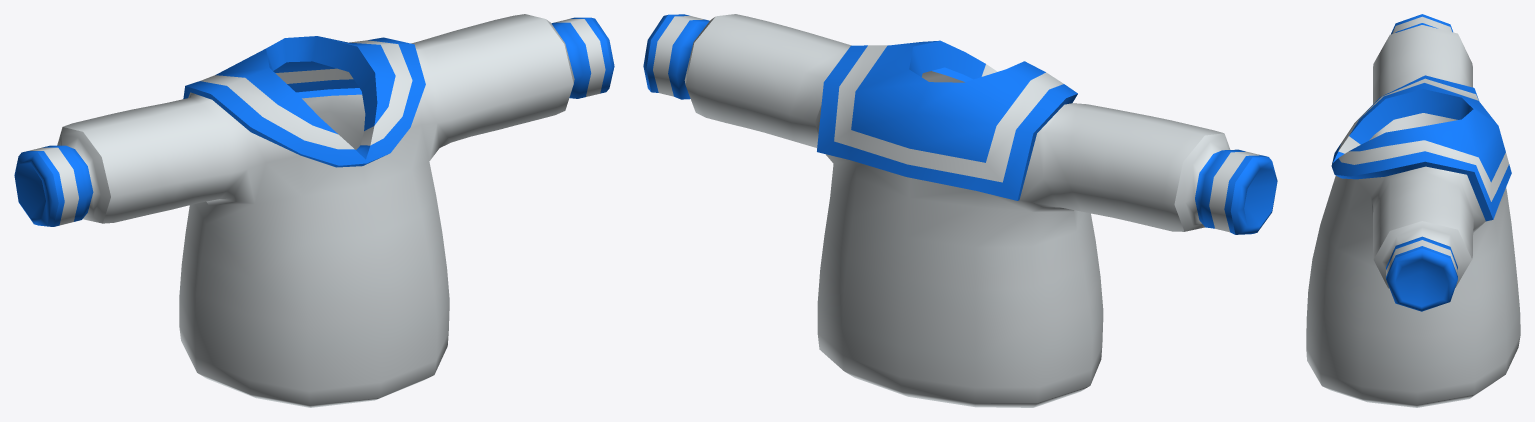
File: Top_43.fbx
The picture shows the model from 3 angles, left to right: view 1: azimuth 30°, elevation 25°; view 2: azimuth 150°, elevation 25°; view 3: azimuth 270°, elevation 25°; orthographic projection. The views are drawn at different scales.
Visible parts, largest first — view 1: Top_43; view 2: Top_43; view 3: Top_43.
Part boxes in pixels (x1=…): Top_43: x1=14, y1=14, x2=614, y2=407; Top_43: x1=643, y1=14, x2=1277, y2=407; Top_43: x1=1306, y1=14, x2=1520, y2=407.
Bounding box in the file's own units: 95.83 × 48.12 × 36.11.
